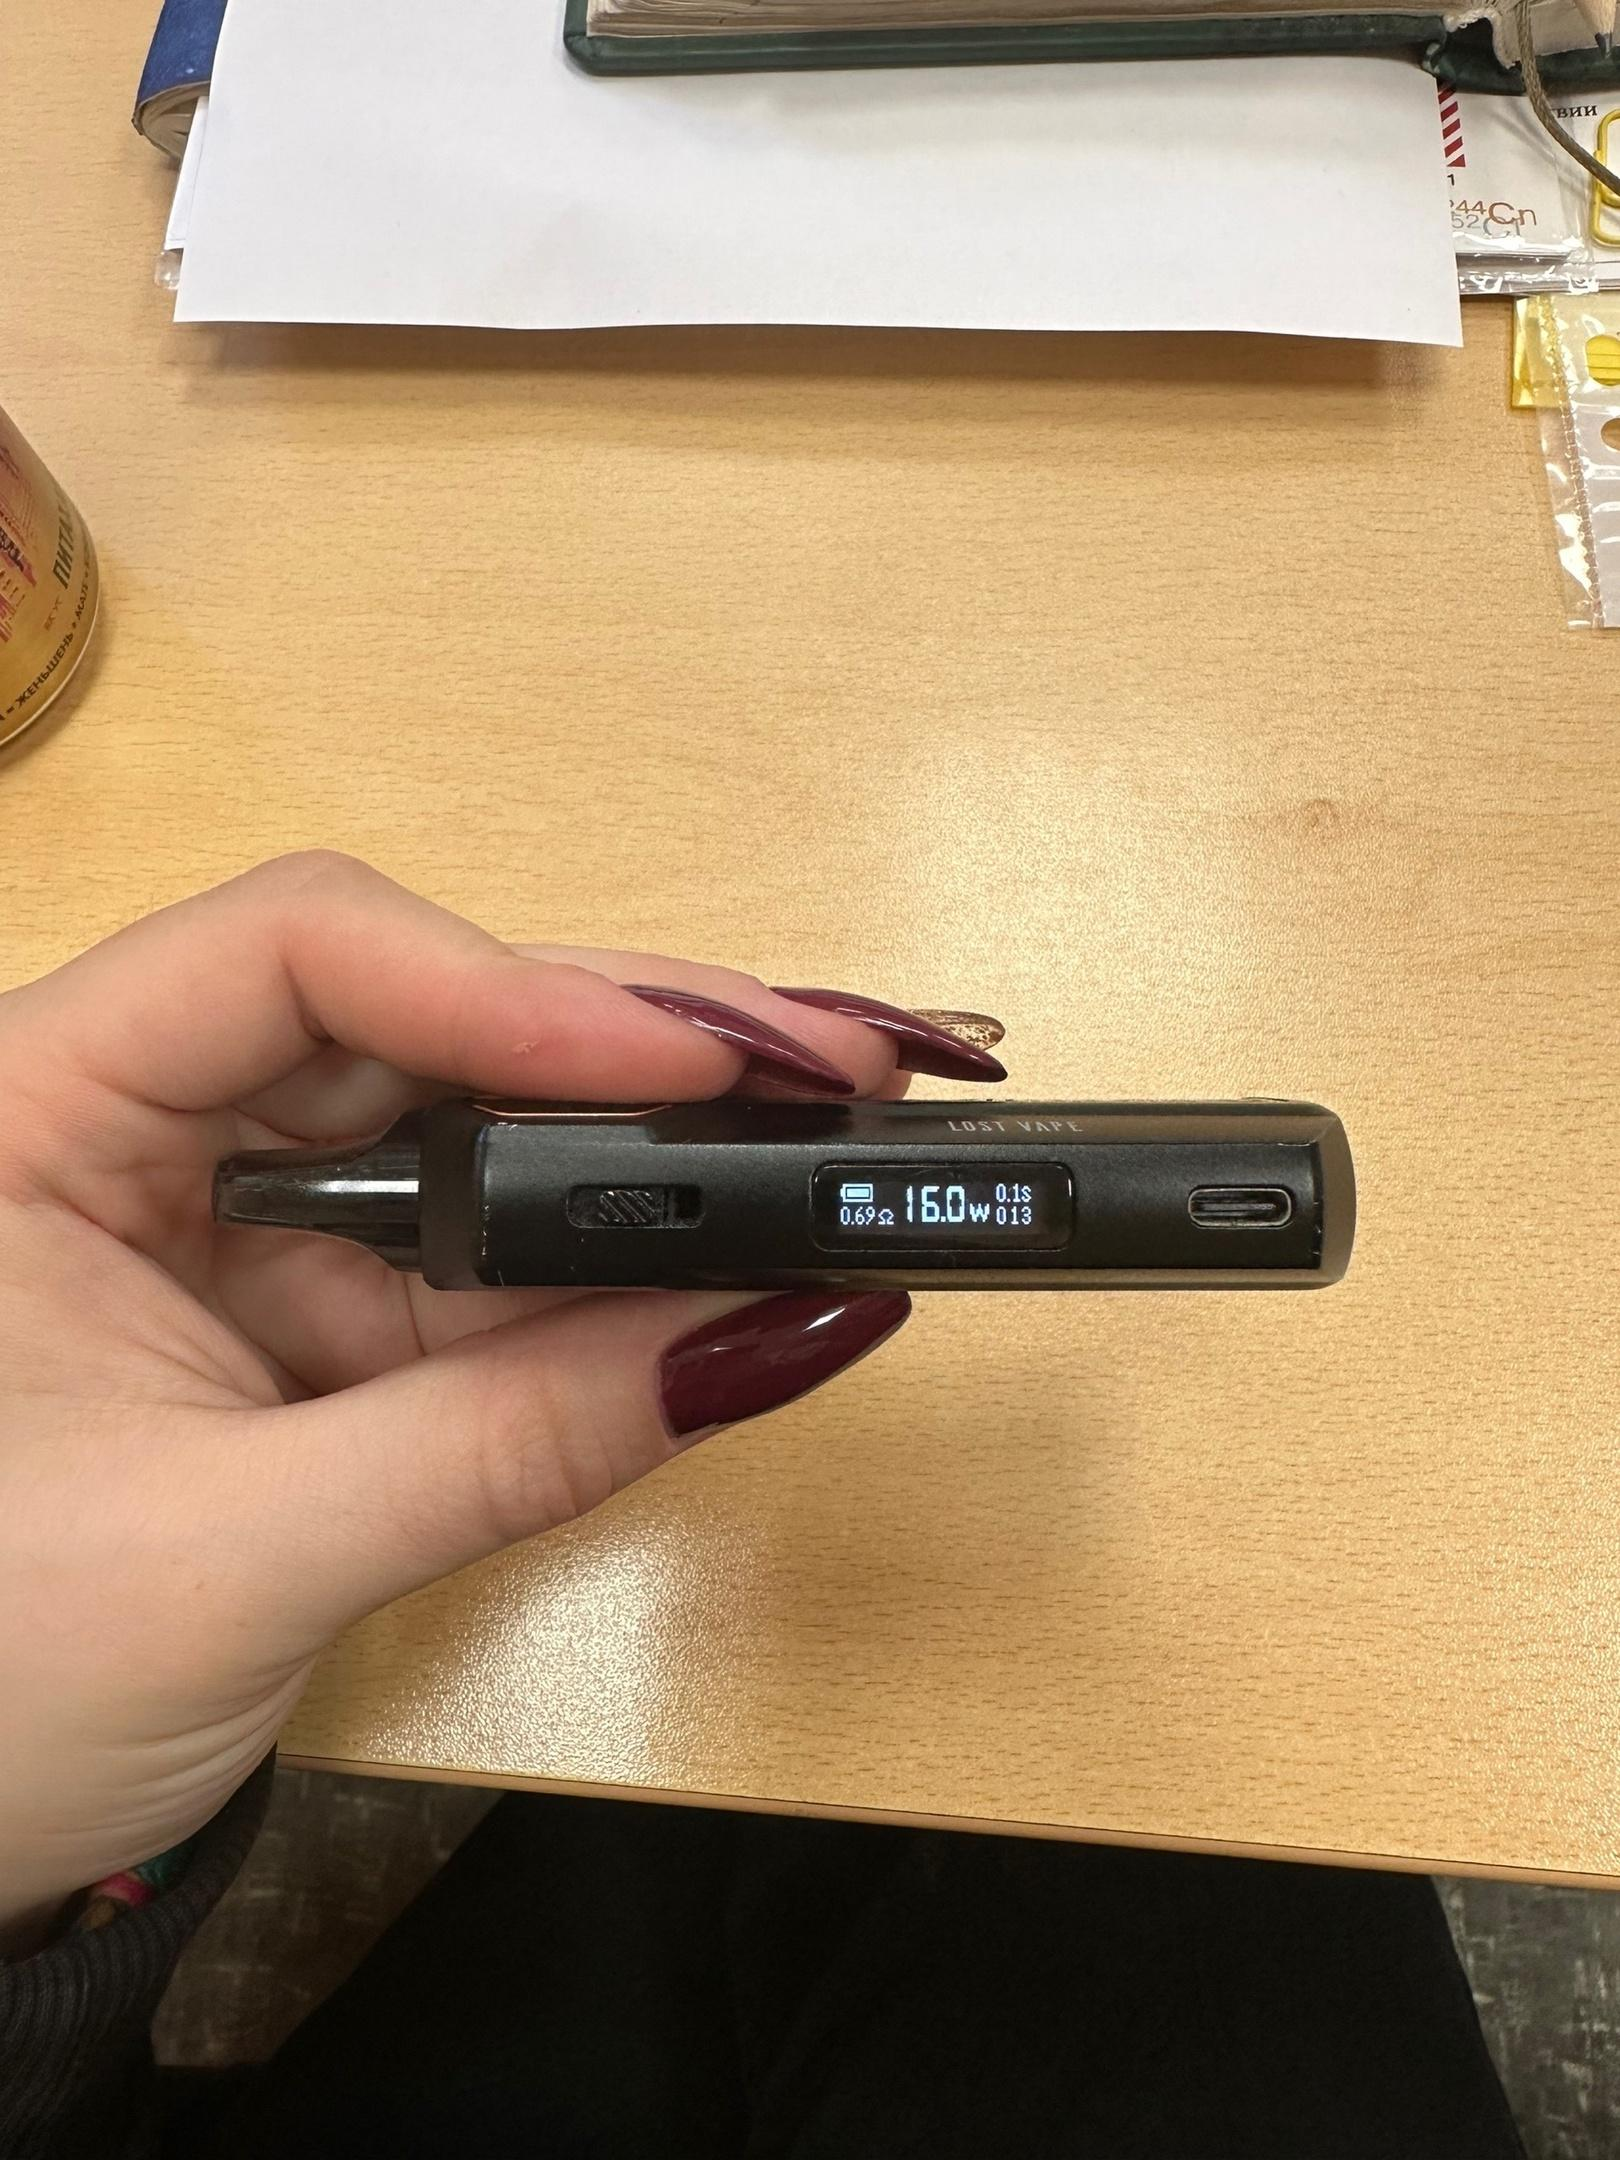Vape: (213, 1099, 1353, 1287)
